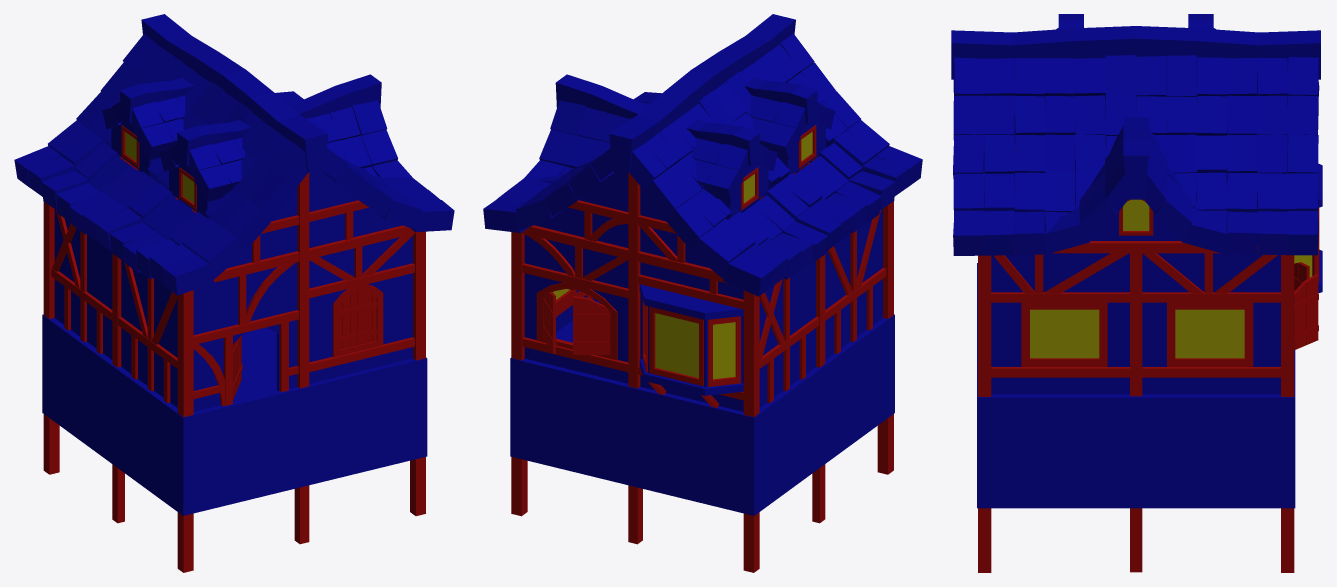
3 renders of one model, left to right at view 1: azimuth 30°, elevation 25°; view 2: azimuth 150°, elevation 25°; view 3: azimuth 270°, elevation 25°, orthographic. The views are drawn at different scales.
Visible parts, largest first — view 1: wuyan, diban, zhuzi, fang05, chuanghu.005, chuangmen; view 2: wuyan, diban, zhuzi, fang05, chuanghu.005, boli, chuangmen.002, chuangmen.001; view 3: wuyan, diban, fang05, zhuzi, boli, chuanghu.005, chuangmen.001.
Part boxes in pixels (x1,y1,x2,y2): wuyan: (14,14,454,295); diban: (42,314,427,515); zhuzi: (43,156,425,572); fang05: (54,120,412,411); chuanghu.005: (121,125,383,357); chuangmen: (339,290,376,349); wuyan: (483,14,922,296); diban: (510,301,894,515); zhuzi: (511,156,893,572); fang05: (524,120,882,411); chuanghu.005: (536,125,816,386); boli: (553,131,812,379); chuangmen.002: (573,296,610,354); chuangmen.001: (543,291,556,353); wuyan: (951,14,1320,255); diban: (977,263,1295,508); fang05: (991,134,1322,394); zhuzi: (978,147,1294,572); boli: (1030,199,1312,358); chuanghu.005: (1021,199,1319,366); chuangmen.001: (1294,274,1318,350).
Size of the model in its own units: 606 by 863 by 613.
